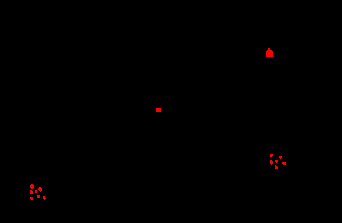Target: (266, 48, 273, 57), (156, 108, 161, 112), (30, 184, 34, 189), (38, 187, 42, 192), (270, 160, 273, 165), (282, 162, 286, 165), (275, 165, 278, 169), (30, 190, 33, 194), (43, 196, 46, 200), (270, 154, 273, 157), (279, 156, 282, 159), (275, 160, 278, 163), (37, 195, 40, 198), (30, 197, 33, 200), (35, 190, 37, 193)
